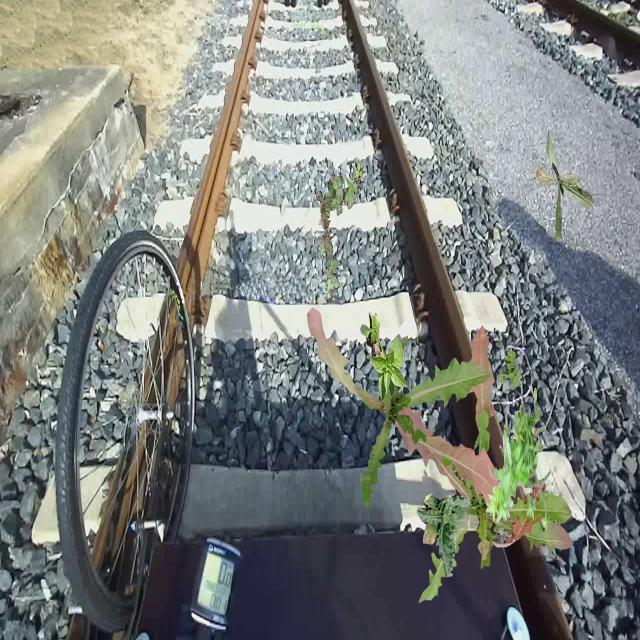Plant: (394, 325, 574, 603), (307, 307, 500, 510), (486, 388, 550, 532), (531, 131, 595, 243), (316, 163, 364, 301), (417, 494, 480, 577), (360, 311, 408, 406), (499, 350, 523, 391)
